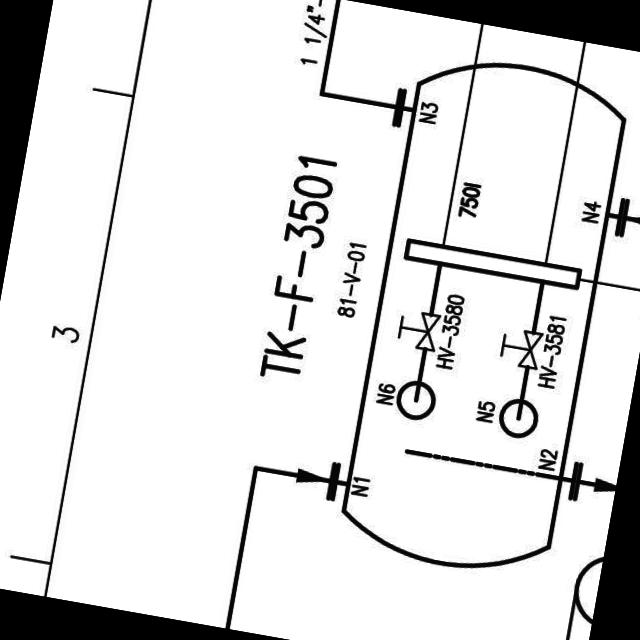HV: (490, 320, 546, 373), (388, 304, 440, 354)
TK: (324, 41, 638, 592)
